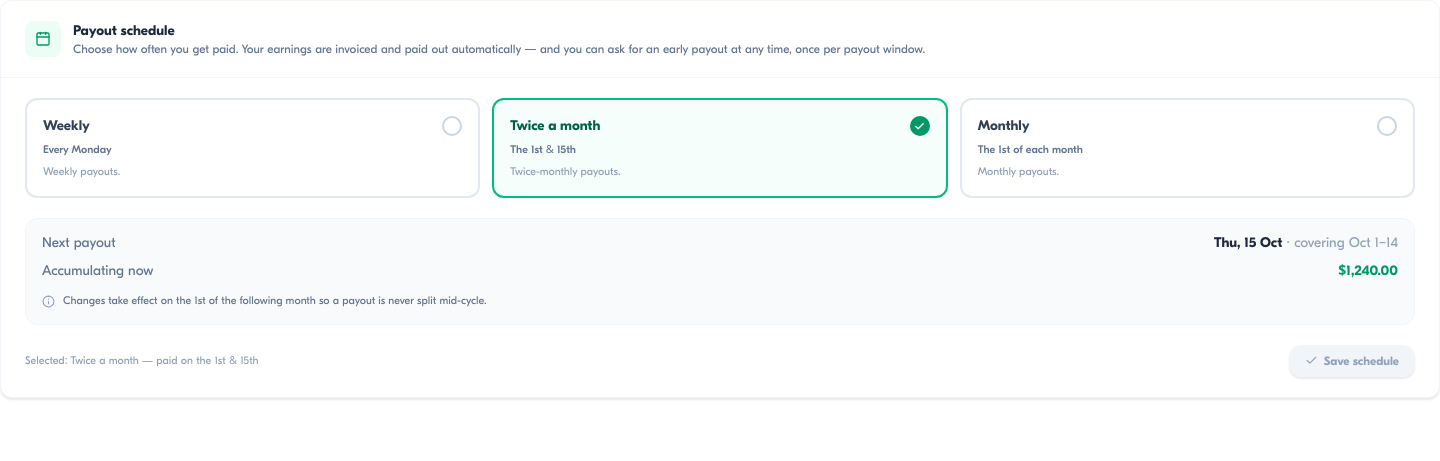
Scenario: PayoutScheduleEditor › saves the chosen cadence and shows the scheduled switch
The image size is (1440, 461).
Step 1. Click the radio button labelled "Weekly Every Monday Weekly payouts." → click(66, 126), box [25,98,480,198]
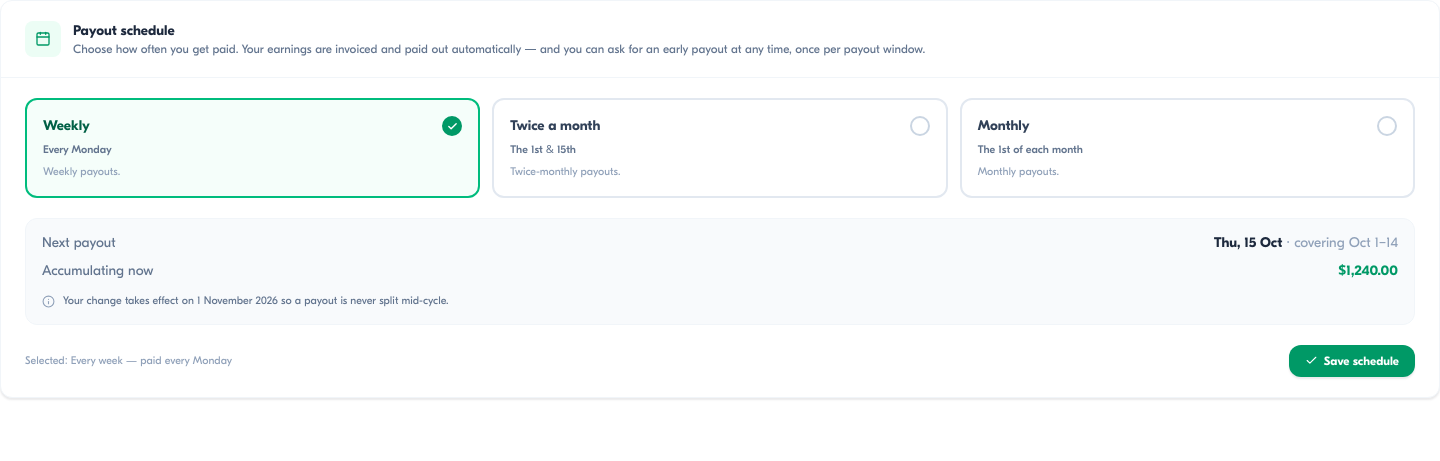
Step 2. Click the button "Save schedule" → click(1352, 361), box [1289,345,1415,377]
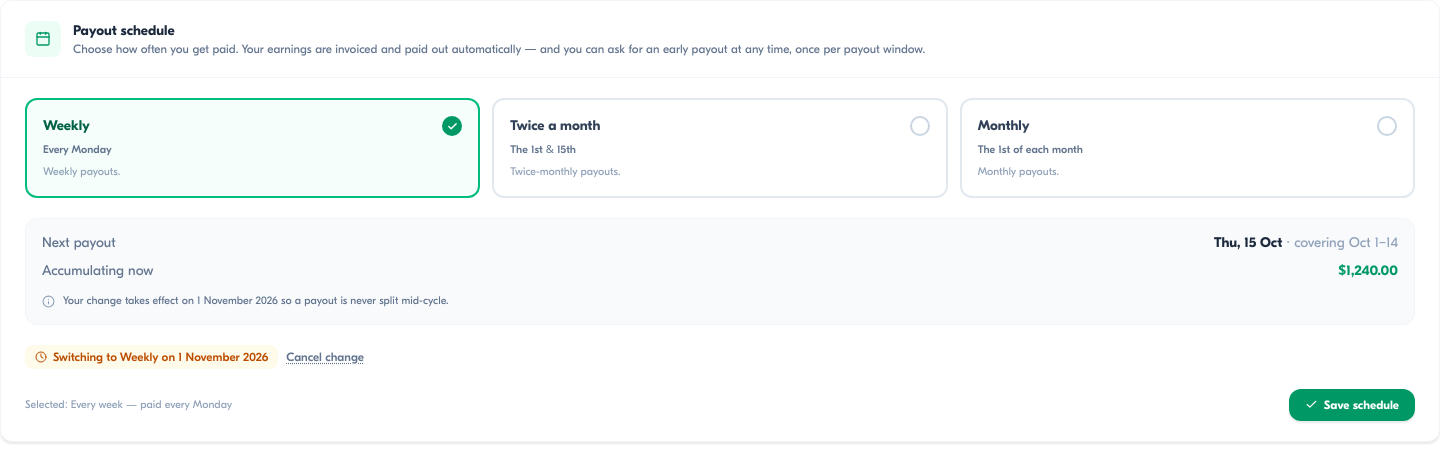
Expected: the text "Switching to Weekly on 1 November 2026" is shown, [25,345,278,369]
